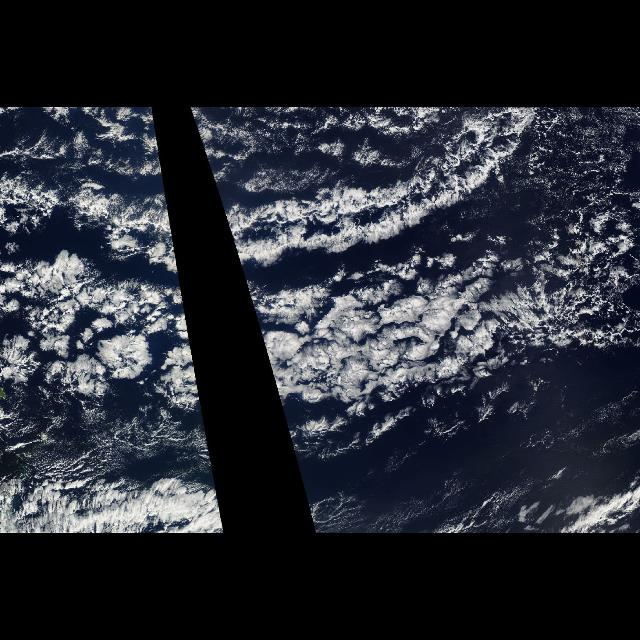Fish: (188, 107, 488, 397), (4, 107, 202, 397)
Gravel: (502, 107, 640, 369)
